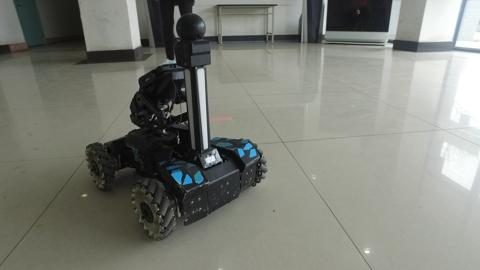chariot: (84, 12, 269, 242)
